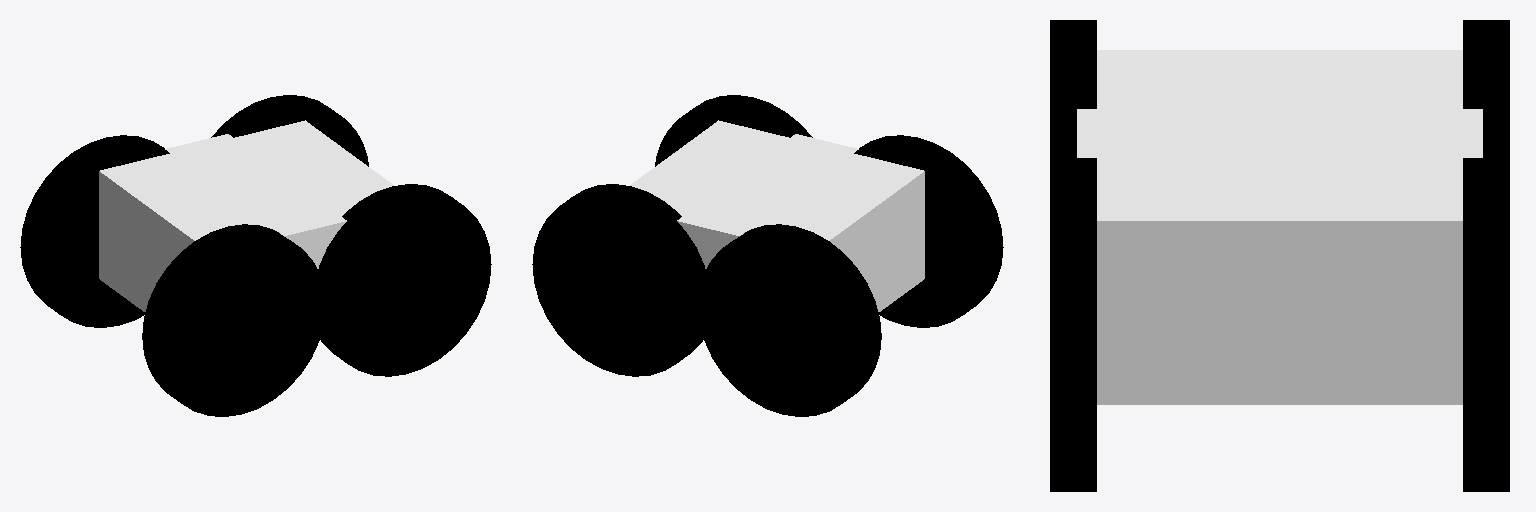
URDF robot description (jaguar4x4):
<?xml version="1.0" encoding="utf-8"?>

<robot name="jaguar4x4">

  <link name="body">
    <visual>
      <geometry>
        <box size="0.5 0.5 0.25"/>
      </geometry>
      <origin rpy="0 0 0" xyz="0 0 0.085"/>
      <material name="white">
        <color rgba="1 1 1 1"/>
      </material>
    </visual>
    <collision>
      <origin rpy="0 0 0" xyz="0 0 0.085"/>
      <geometry>
        <box size="0.5 0.5 0.25"/>
      </geometry>
    </collision>
  </link>
  
  <link name="front_lwheel">
    <visual>
      <geometry>
        <cylinder length="0.058" radius="0.206"/>
      </geometry>
      <origin rpy="0 0 0" xyz="0 0 0"/>
      <material name="black">
        <color rgba="0 0 0 1"/>
      </material>
    </visual>
    <collision>
      <origin rpy="0 0 0" xyz="0 0 0"/>
      <geometry>
        <cylinder length="0.058" radius="0.206"/>
      </geometry>
    </collision>
  </link>
  
  <joint name="base_to_front_lwheel" type="fixed">
    <parent link="body"/>
    <child link="front_lwheel"/>
    <origin xyz="-0.2 0.255 0.046" rpy="1.5708 0 0"/>
  </joint>
  
  <link name="front_rwheel">
    <visual>
      <geometry>
        <cylinder length="0.058" radius="0.206"/>
      </geometry>
      <origin rpy="0 0 0" xyz="0 0 0"/>
      <material name="black">
        <color rgba="0 0 0 1"/>
      </material>
    </visual>
    <collision>
      <origin rpy="0 0 0" xyz="0 0 0"/>
      <geometry>
        <cylinder length="0.058" radius="0.206"/>
      </geometry>
    </collision>
  </link>
  
  <joint name="base_to_front_rwheel" type="fixed">
    <parent link="body"/>
    <child link="front_rwheel"/>
    <origin xyz="-0.2 -0.255 0.046" rpy="-1.5708 0 0"/>
  </joint>
  
  
  <link name="back_lwheel">
    <visual>
      <geometry>
        <cylinder length="0.058" radius="0.206"/>
      </geometry>
      <origin rpy="0 0 0" xyz="0 0 0"/>
      <material name="black">
        <color rgba="0 0 0 1"/>
      </material>
    </visual>
    <collision>
      <origin rpy="0 0 0" xyz="0 0 0"/>
      <geometry>
        <cylinder length="0.058" radius="0.206"/>
      </geometry>
    </collision>
  </link>
  
  <joint name="base_to_back_lwheel" type="revolute">
    <parent link="body"/>
    <child link="back_lwheel"/>
    <origin xyz="0.2 0.255 0.046" rpy="1.5708 0 0"/>
    <axis xyz="0 0 1"/>
    <limit effort="10.0" lower="0" upper="0" velocity="0"/>
  </joint>
  
  <link name="back_rwheel">
    <visual>
      <geometry>
        <cylinder length="0.058" radius="0.206"/>
      </geometry>
      <origin rpy="0 0 0" xyz="0 0 0"/>
      <material name="black">
        <color rgba="0 0 0 1"/>
      </material>
    </visual>
    <collision>
      <origin rpy="0 0 0" xyz="0 0 0"/>
      <geometry>
        <cylinder length="0.058" radius="0.206"/>
      </geometry>
    </collision>
  </link>
  
  <joint name="base_to_back_rwheel" type="fixed">
    <parent link="body"/>
    <child link="back_rwheel"/>
    <origin xyz="0.2 -0.255 0.046" rpy="1.5708 0 0"/>
  </joint>
  
</robot>

--- What the picture shows (computed from the rendered views, not written in the file) ---
Views: 3 orthographic renders of the robot side by side, from view 1: azimuth 30°, elevation 25°; view 2: azimuth 150°, elevation 25°; view 3: azimuth 270°, elevation 25°.
Robot: jaguar4x4 — 5 links, 4 joints (1 revolute, 3 fixed); root link body; default pose: all joints at 0.
Visible links, largest first — view 1: body, front_rwheel, back_rwheel, front_lwheel, back_lwheel; view 2: body, front_lwheel, back_lwheel, front_rwheel, back_rwheel; view 3: body, back_lwheel, back_rwheel, front_lwheel, front_rwheel.
Boxes of the visible links, x1=… form: body: x1=99, y1=120, x2=393, y2=311; front_rwheel: x1=142, y1=224, x2=325, y2=416; back_rwheel: x1=318, y1=184, x2=491, y2=376; front_lwheel: x1=20, y1=135, x2=169, y2=327; back_lwheel: x1=211, y1=95, x2=368, y2=166; body: x1=630, y1=120, x2=924, y2=311; front_lwheel: x1=698, y1=224, x2=881, y2=416; back_lwheel: x1=532, y1=184, x2=705, y2=376; front_rwheel: x1=854, y1=135, x2=1003, y2=327; back_rwheel: x1=655, y1=95, x2=812, y2=166; body: x1=1077, y1=50, x2=1482, y2=404; back_lwheel: x1=1463, y1=158, x2=1509, y2=491; back_rwheel: x1=1050, y1=158, x2=1096, y2=491; front_lwheel: x1=1463, y1=20, x2=1509, y2=157; front_rwheel: x1=1050, y1=20, x2=1096, y2=157.
Bounding box of the posed robot: 0.812 × 0.568 × 0.412 m (x, y, z).
Geometry: primitives only (box / cylinder / sphere), no mesh files.
